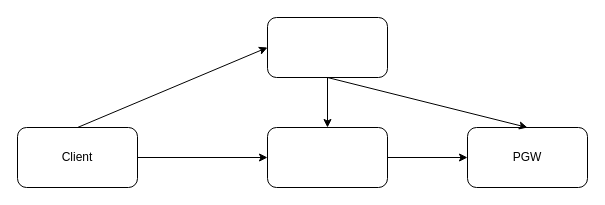
This 605x205 diagram has some shape labels left out. Here are the shapes that lost their labels. From the top down, the centre of each, then its label:
At point (327, 47): "MME".
At point (327, 157): "SGW".
